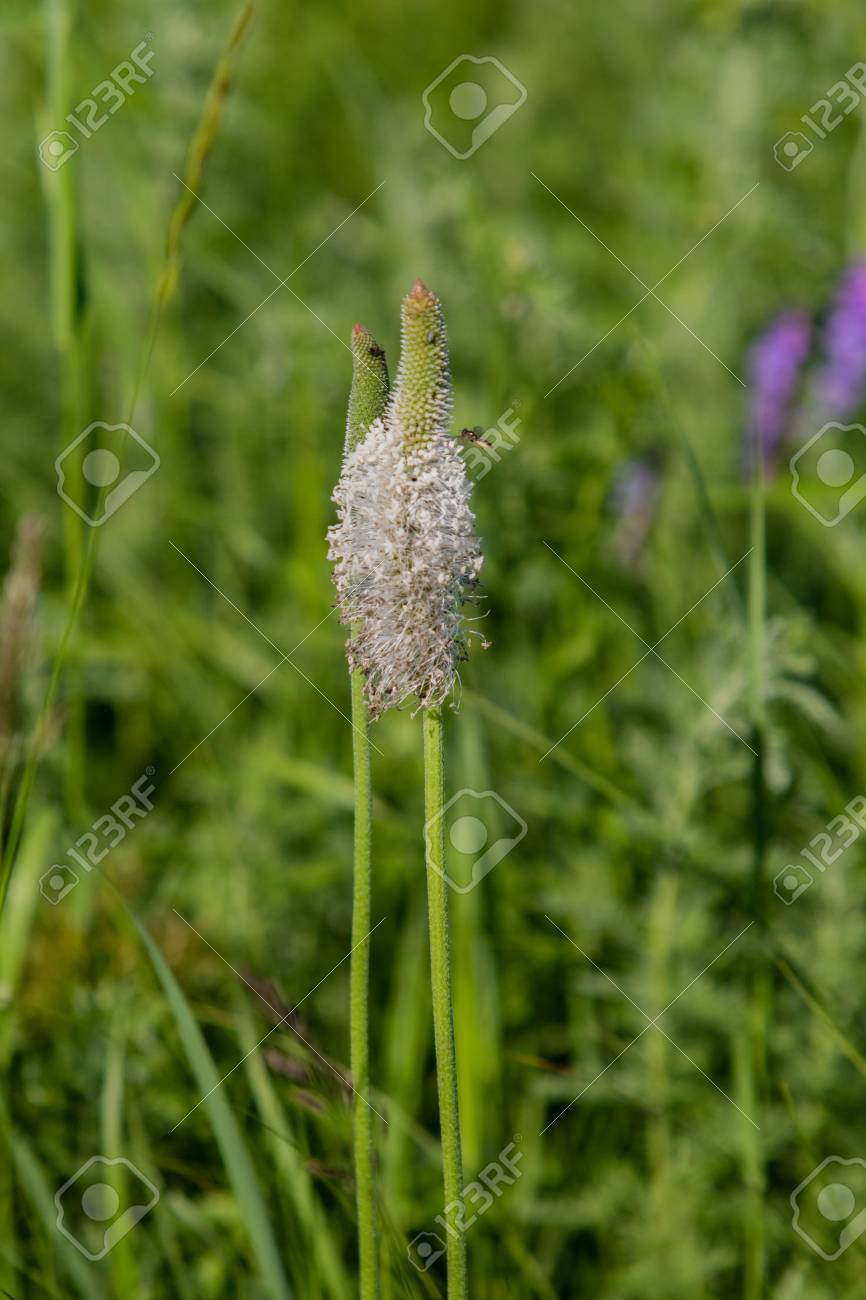buckhorn plantain: (273, 265, 611, 1102)
